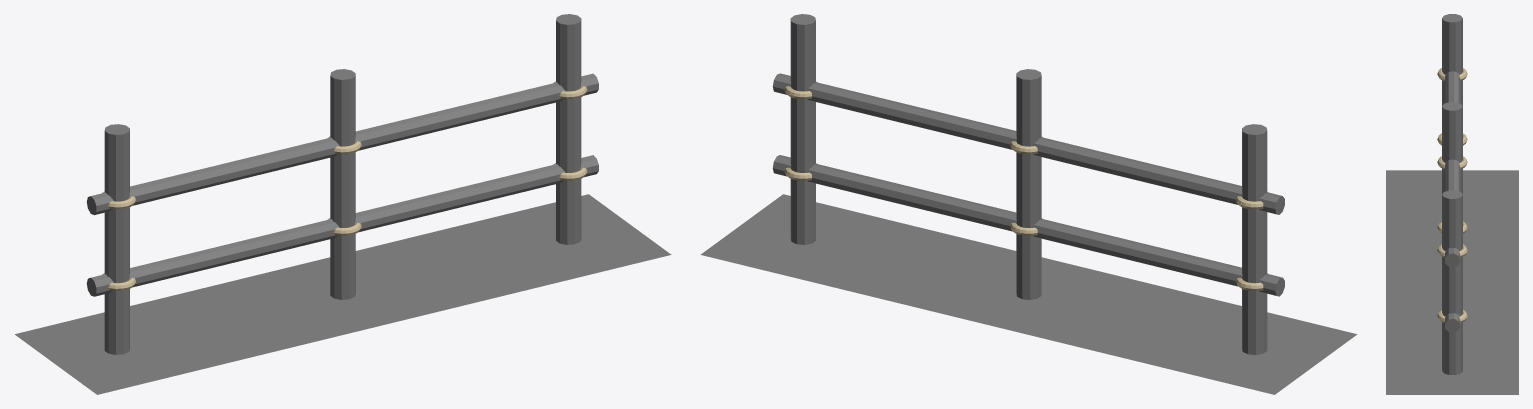
Rendered from fence.glb.
3 renders of one model, left to right at view 1: azimuth 30°, elevation 25°; view 2: azimuth 150°, elevation 25°; view 3: azimuth 270°, elevation 25°, orthographic. The views are drawn at different scales.
Visible parts, largest first — view 1: ContactShadow, rail, rail.001, post.002, post, post.001; view 2: ContactShadow, rail.001, rail, post.001, post.002, post; view 3: ContactShadow, post.002, post.001, post, rail, rail.001, lash, lash.001, lash.003, lash.005.
Part boxes in pixels (box(x1,y1,x2,y2)): ContactShadow: box(15, 194, 671, 394); rail: box(86, 73, 598, 215); rail.001: box(86, 155, 598, 296); post.002: box(556, 14, 581, 244); post: box(104, 124, 129, 354); post.001: box(330, 69, 355, 299); ContactShadow: box(700, 194, 1356, 394); rail.001: box(772, 155, 1284, 296); rail: box(772, 73, 1284, 214); post.001: box(1016, 69, 1041, 299); post.002: box(790, 14, 815, 244); post: box(1242, 124, 1267, 354); ContactShadow: box(1386, 170, 1518, 394); post.002: box(1442, 190, 1462, 374); post.001: box(1442, 102, 1462, 194); post: box(1442, 14, 1462, 105); rail: box(1445, 71, 1460, 267); rail.001: box(1445, 313, 1460, 332); lash: box(1437, 310, 1467, 322); lash.001: box(1437, 68, 1467, 81); lash.003: box(1437, 156, 1467, 169); lash.005: box(1437, 244, 1467, 257).
Bounding box in the file's own units: 2.8 × 1.05 × 0.7.
Materials: 3 (2 with a texture image).
